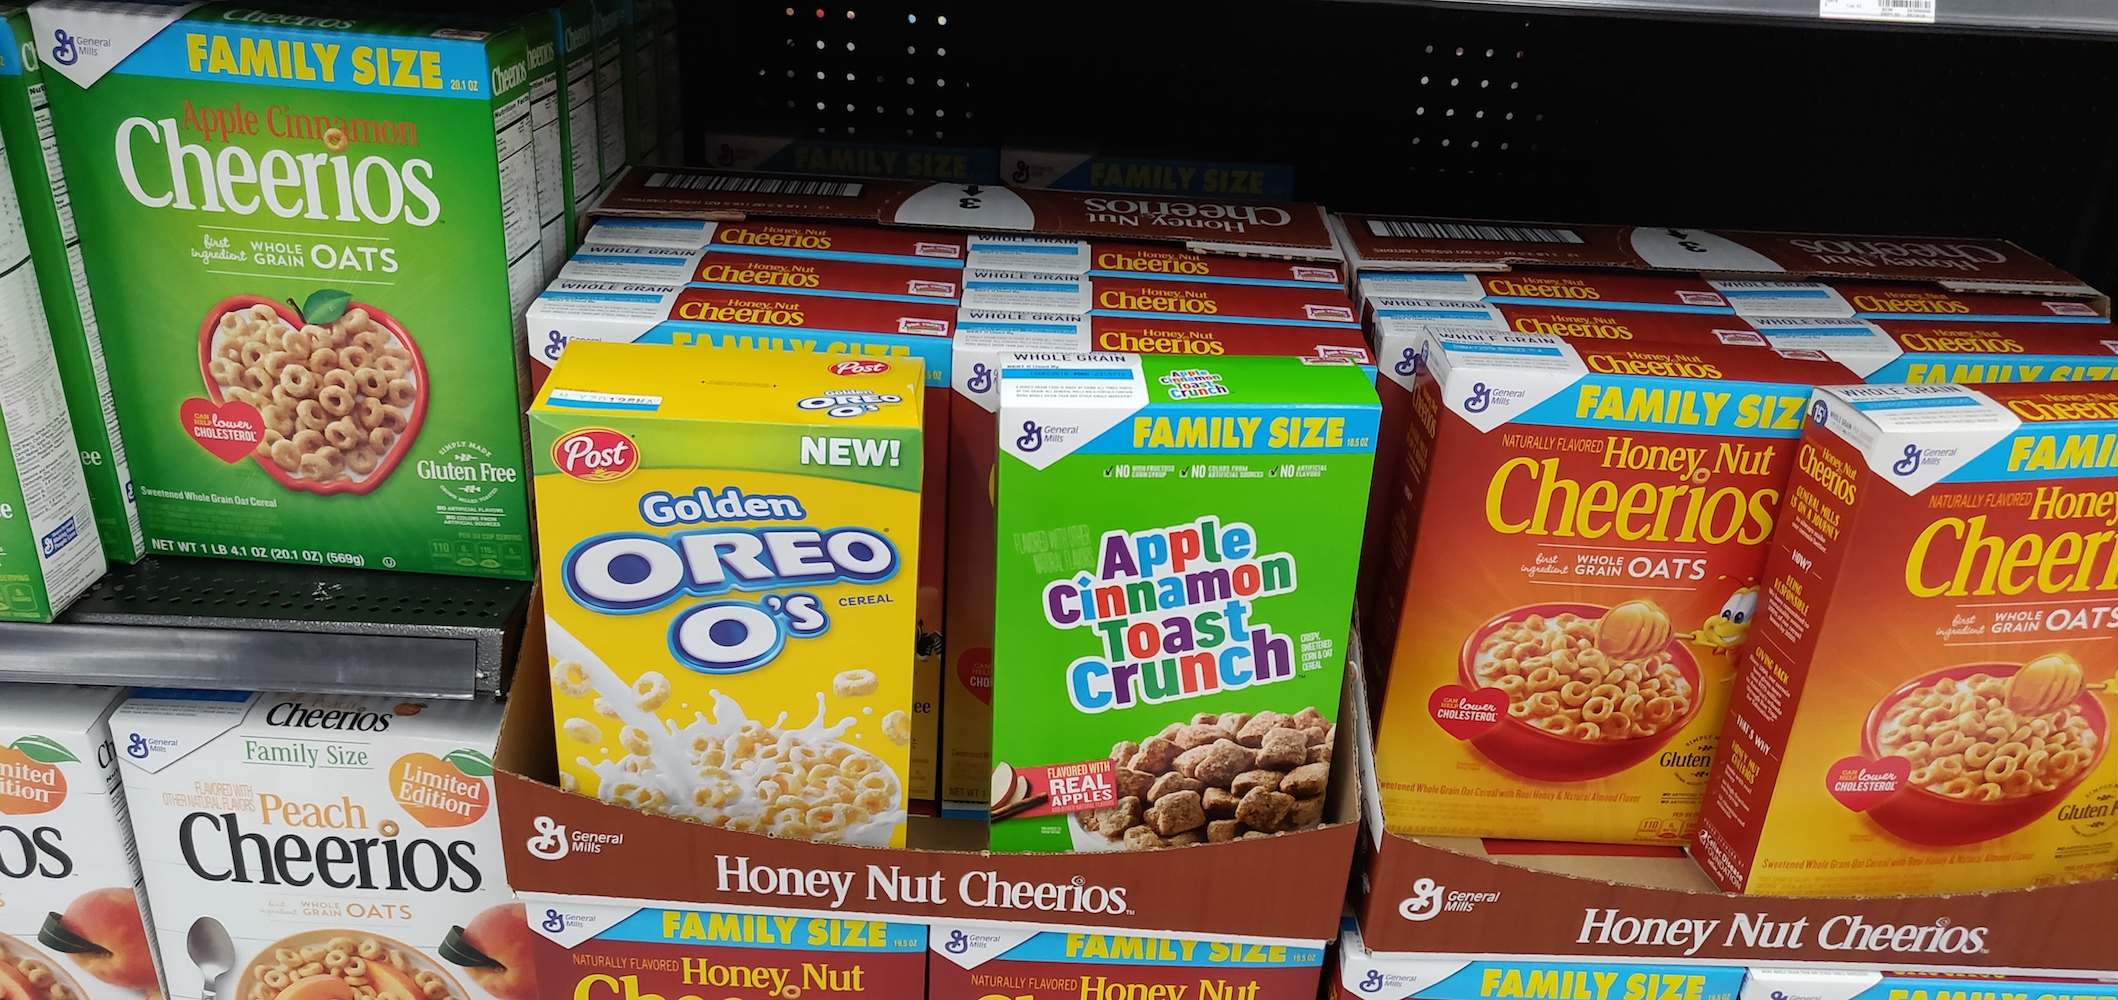Oreo Golden-568301011: (552, 364, 906, 832)
